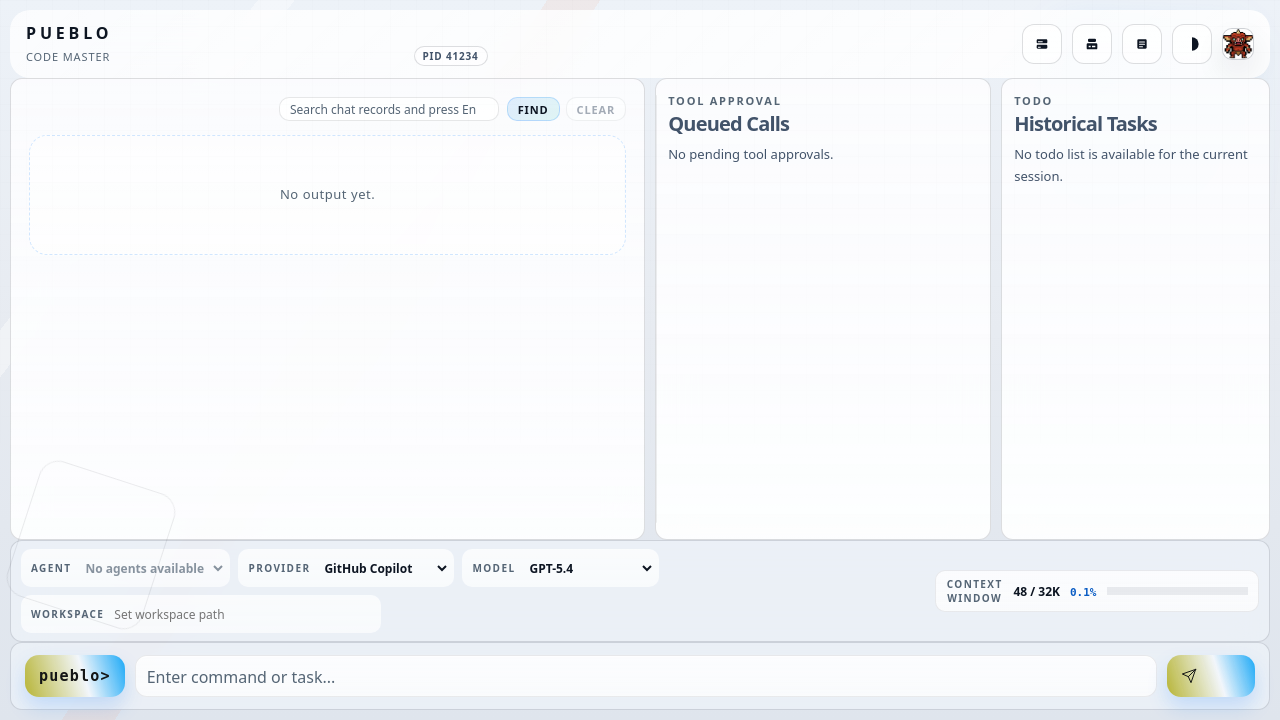
it: Desktop Renderer › shows the context window progress and breakdown popover
This screenshot has width=1280, height=720.
Expected: the text "48 / 32K" is shown, [1013,582,1060,600]
Expected: the text "0.1%" is shown, [1070,586,1096,598]
Click the button with aria-label "Show context window breakdown": (1097, 591) [935,570,1259,612]
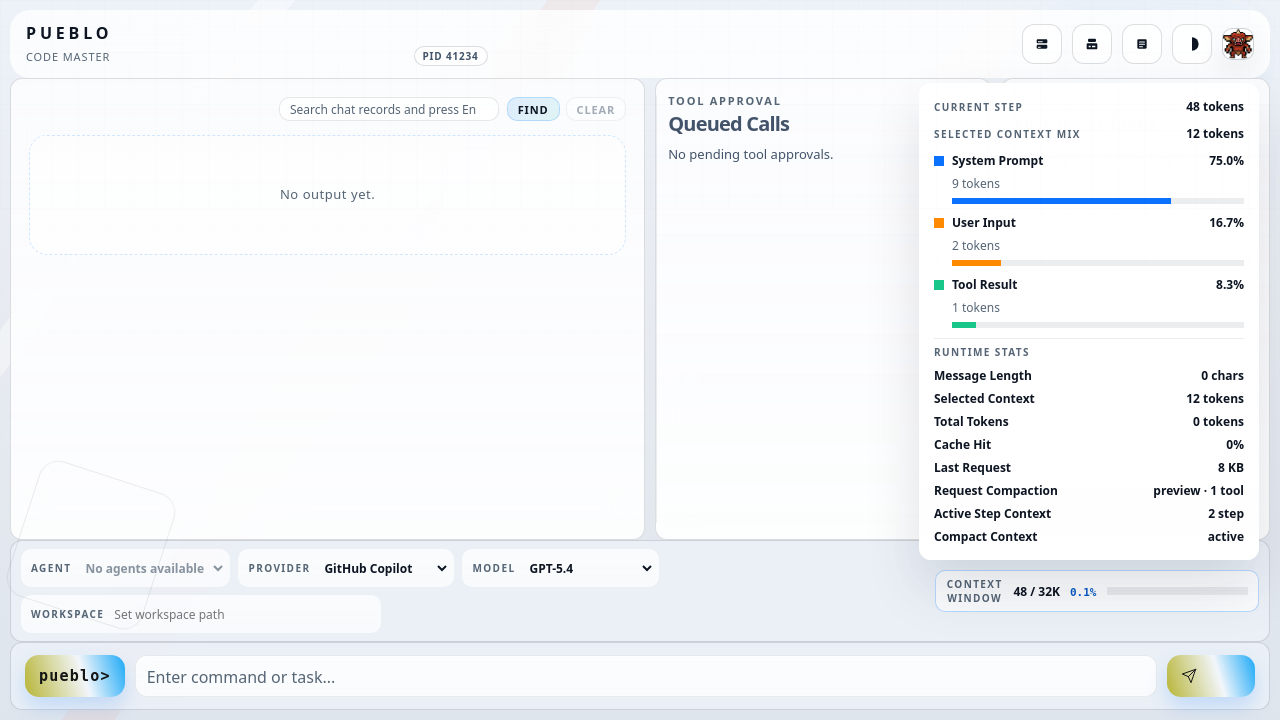
Result: the dialog named "context-breakdown" is shown at [919,83,1259,560]
Result: the text "Current Step" is shown at [934,100,1023,114]
Result: the text "Selected Context Mix" is shown at [934,127,1081,141]
